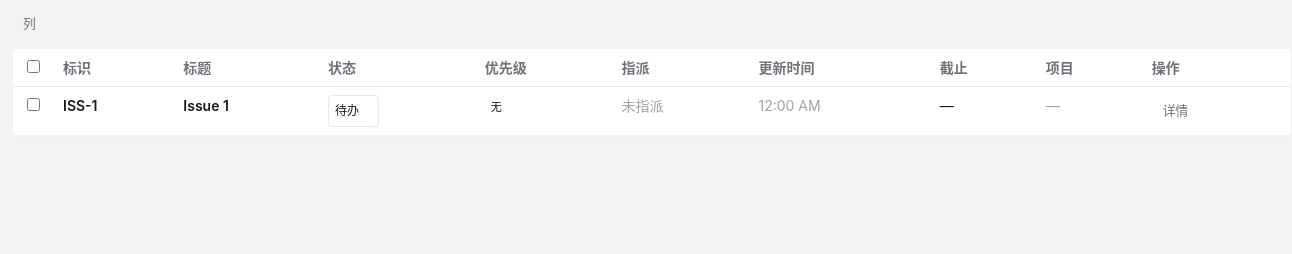
Test: IssueListView 列选择（列表表格二阶） › 取消勾选「优先级」：表头消失、行单元格同步少一列、写入 localStorage
Click the button with test id "issue-list-column-picker" at point(29, 24), box [12,8,47,40]
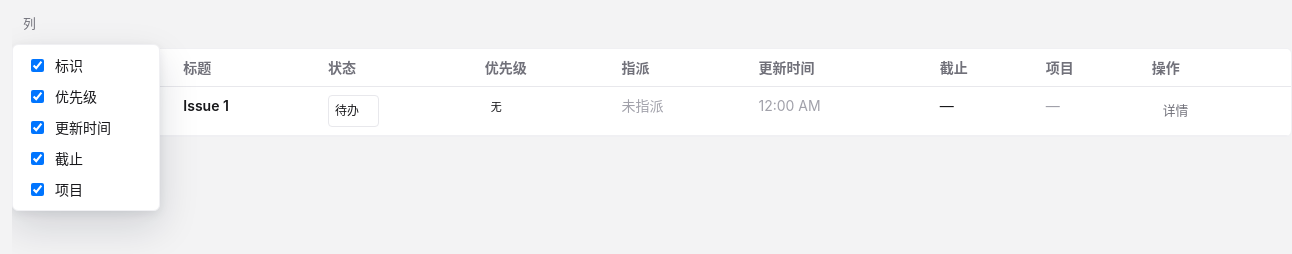
Click the checkbox with test id "issue-list-column-opt-priority" at point(38, 96), box [31,90,44,103]
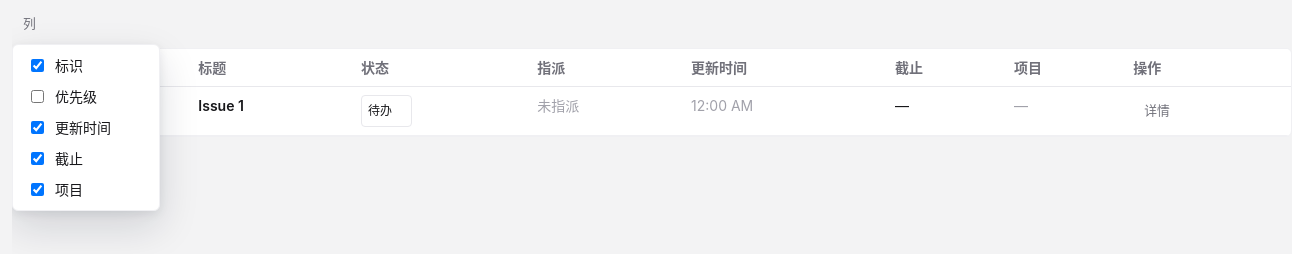
Check: the column heading with test id "issue-list-sort-header-priority" is gone
